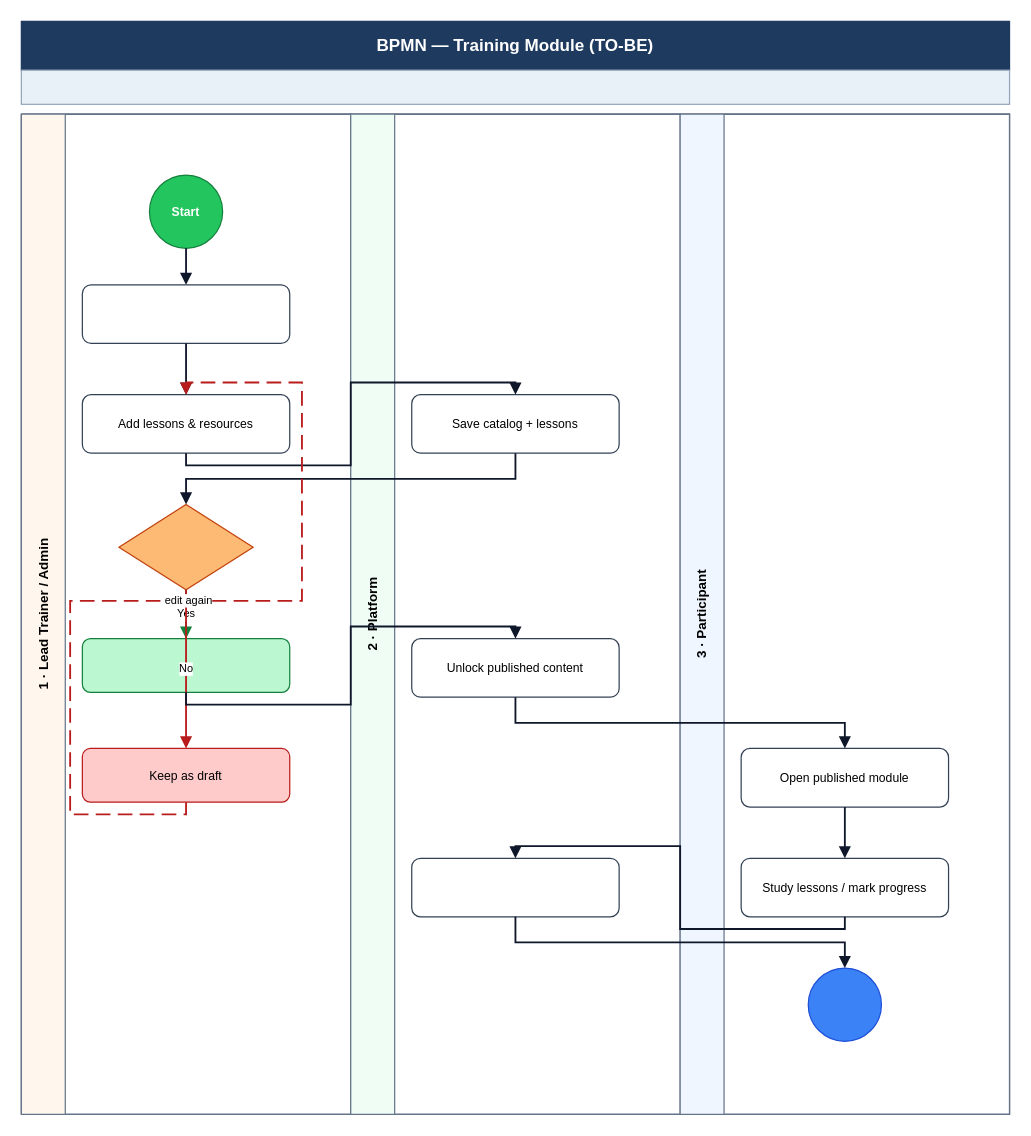
This 1031x1136 diagram has some shape labels left out. The shapes that lost their labels are listed below. From the top down, each one's centre as x and y in pixels, then its label:
At (515,86): "Create / publish modules and lessons. Campaign submit is NOT this module.".
At (185,313): "Create / edit module".
At (185,546): "Publish?".
At (185,664): "Publish module".
At (515,887): "Record lesson progress".
At (844,1004): "End".
